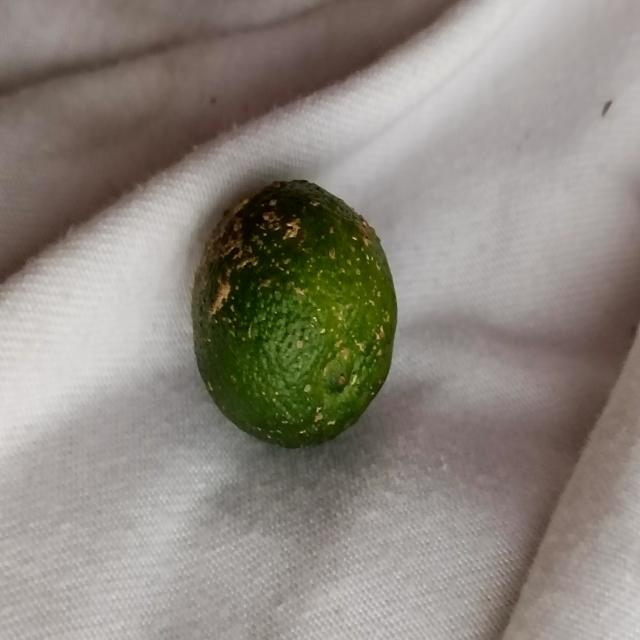scab: (191, 175, 395, 452)
